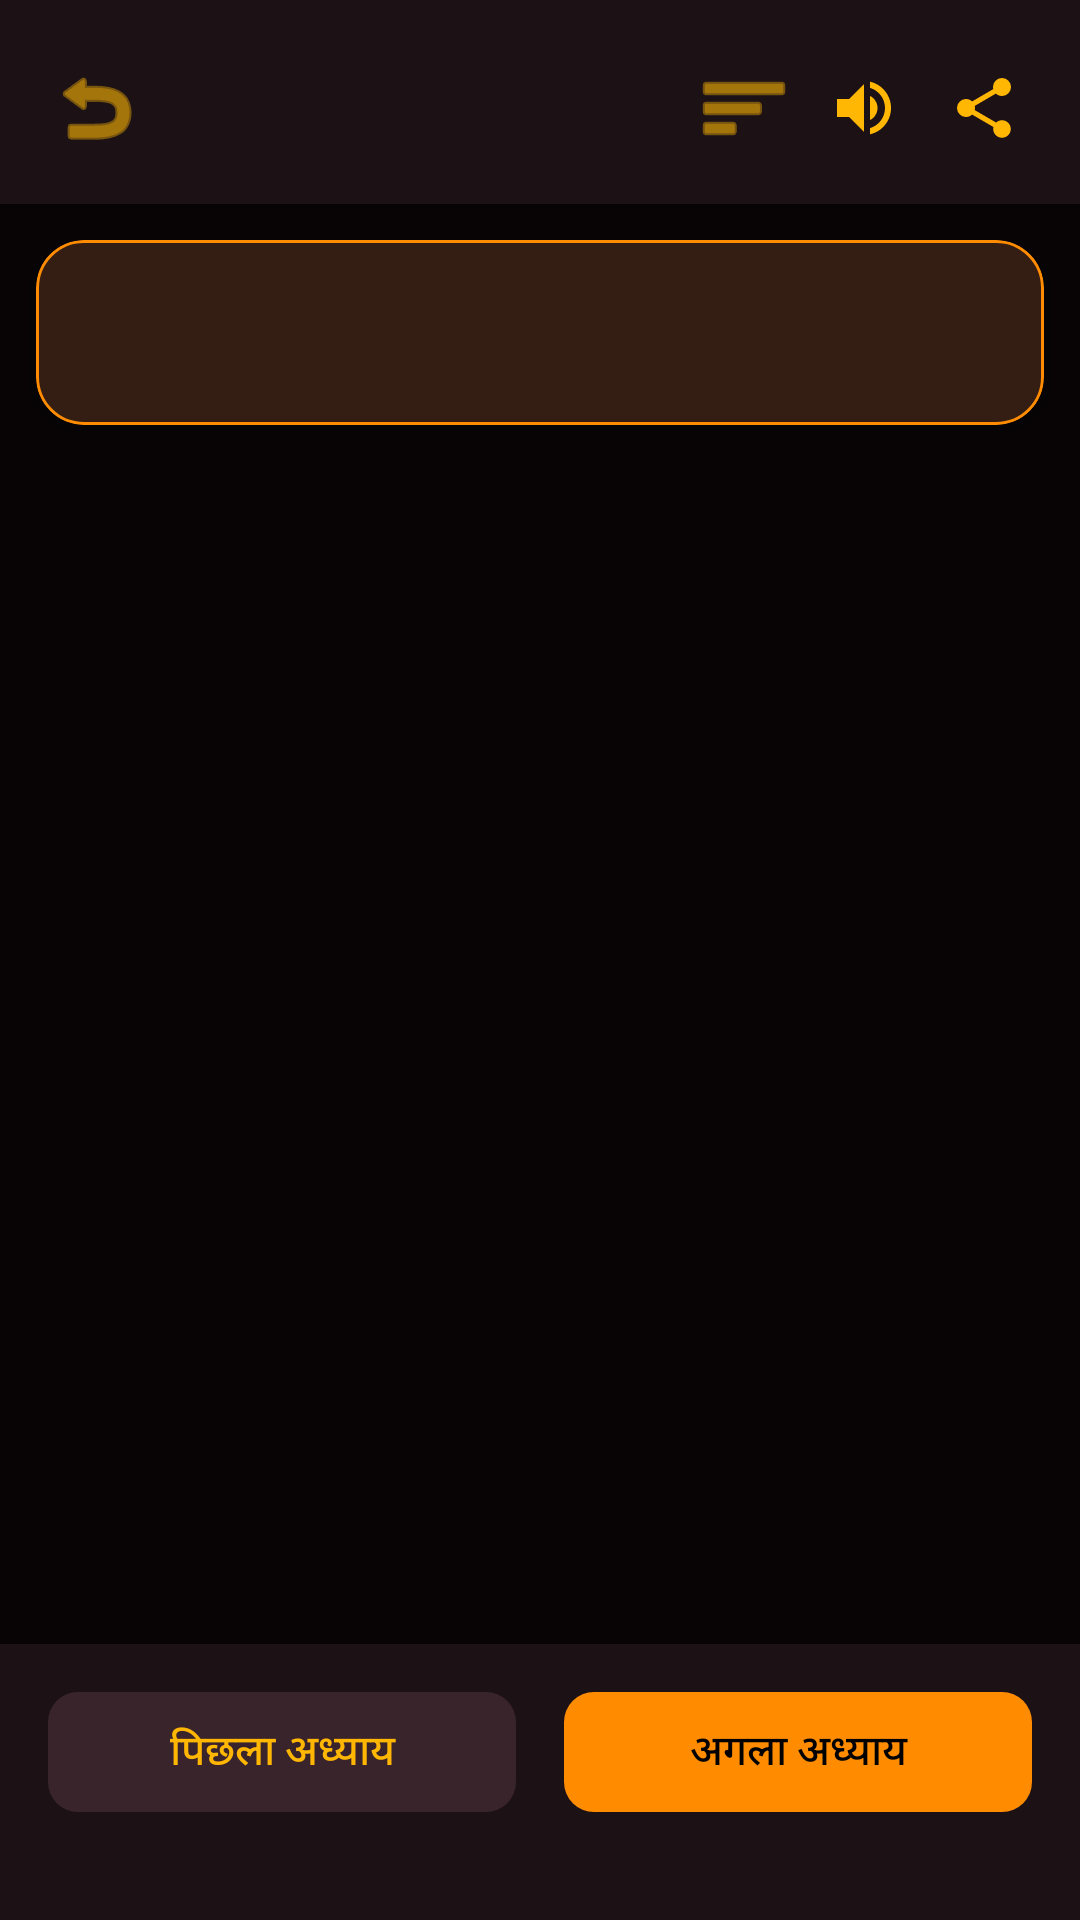

Point at icon controls on the screen. Image size 1080×1920, points as [x,y].
Audio Narration: [864,108]
Back: [97,108]
Chapter List: [744,108]
Share Shlok: [984,108]
